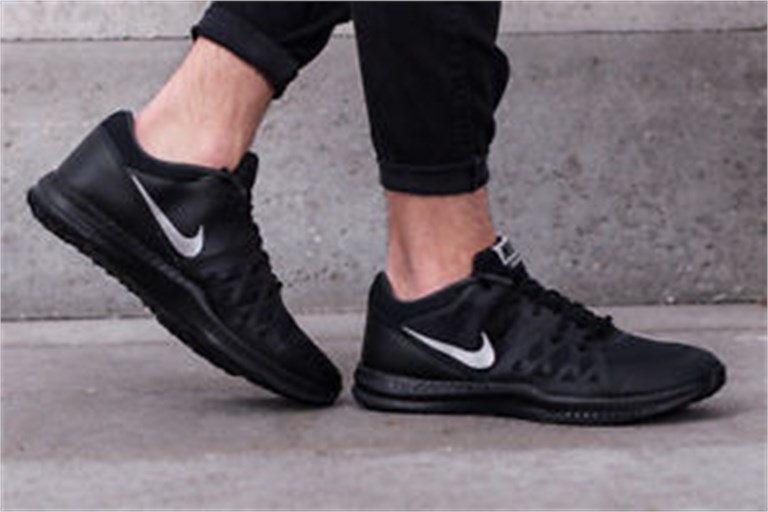nike: (127, 170, 207, 260), (398, 322, 497, 375)
